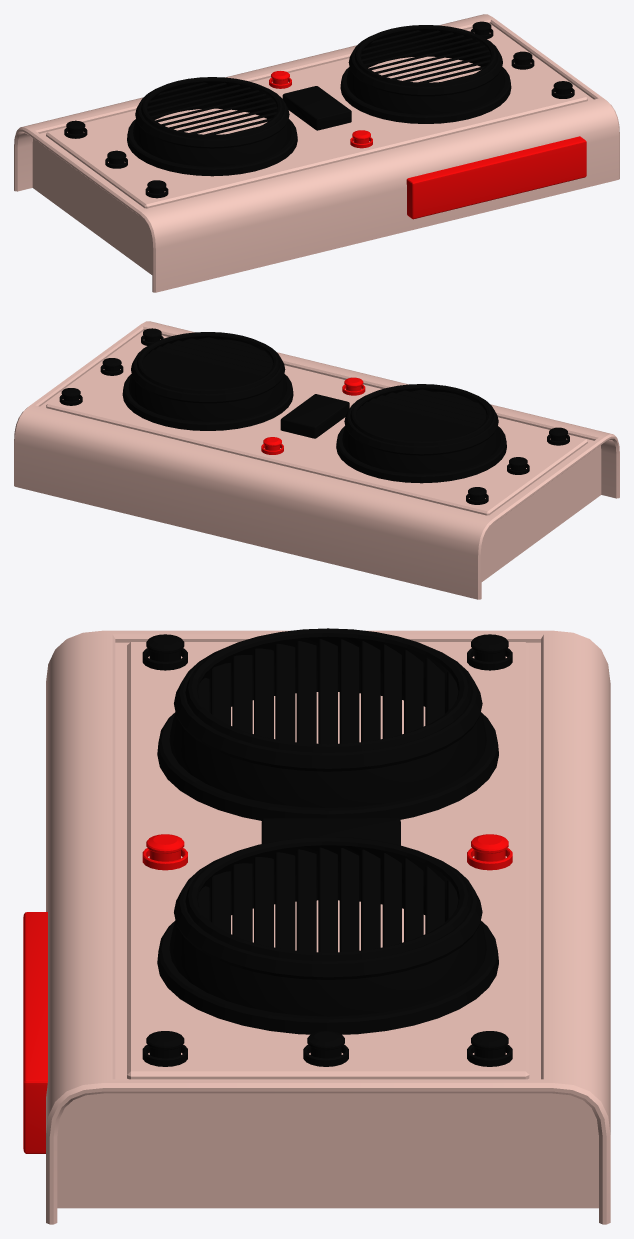
3 renders of one model, top to bottom at view 1: azimuth 30°, elevation 25°; view 2: azimuth 150°, elevation 25°; view 3: azimuth 270°, elevation 25°, orthographic. The views are drawn at different scales.
Visible parts, largest first — view 1: factory_unit_17; view 2: factory_unit_17; view 3: factory_unit_17.
Part boxes in pixels (<box>): factory_unit_17: <box>14,14,619,292</box>; factory_unit_17: <box>14,321,619,599</box>; factory_unit_17: <box>23,628,610,1224</box>.
Size of the model in its own units: 325 by 69.34 by 177.
